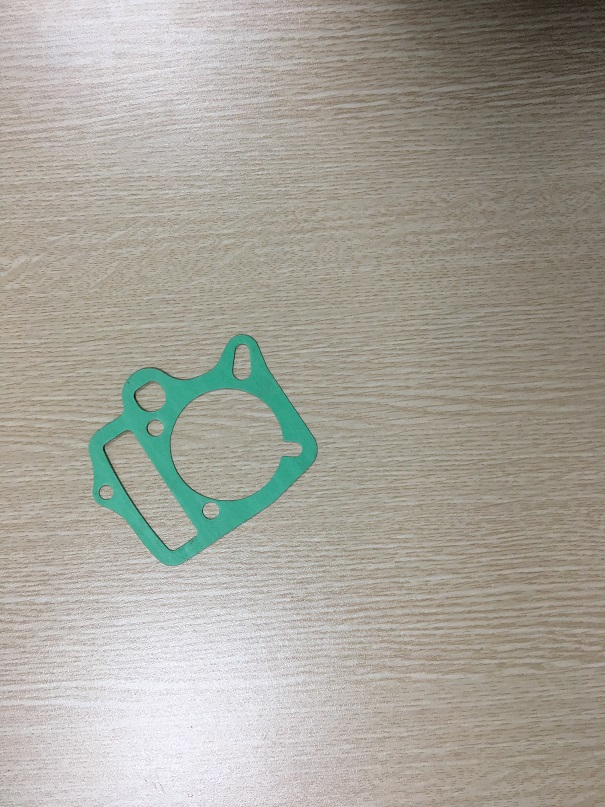type4: (74, 330, 323, 571)
